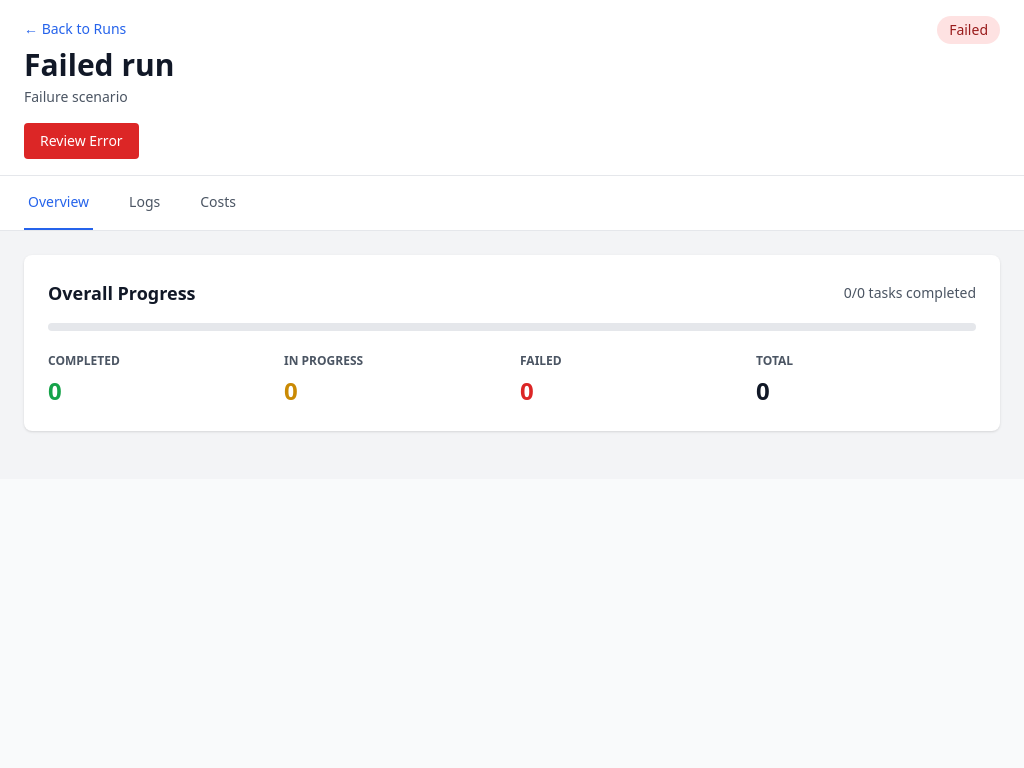
it: ExecutionConsole repair workflow › shows inline error when retry endpoint fails
Click the button "Review Error".
click(81, 141)  # box 24,123 -> 139,159
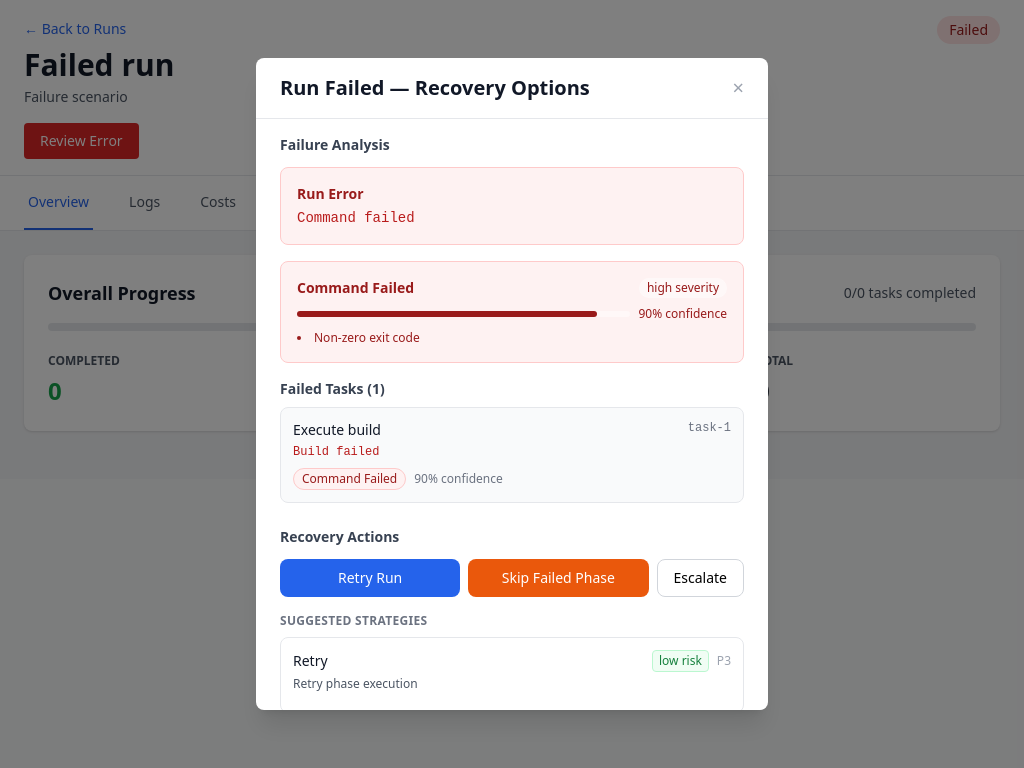
Click the button "Retry Run".
click(370, 578)  # box 280,559 -> 460,597
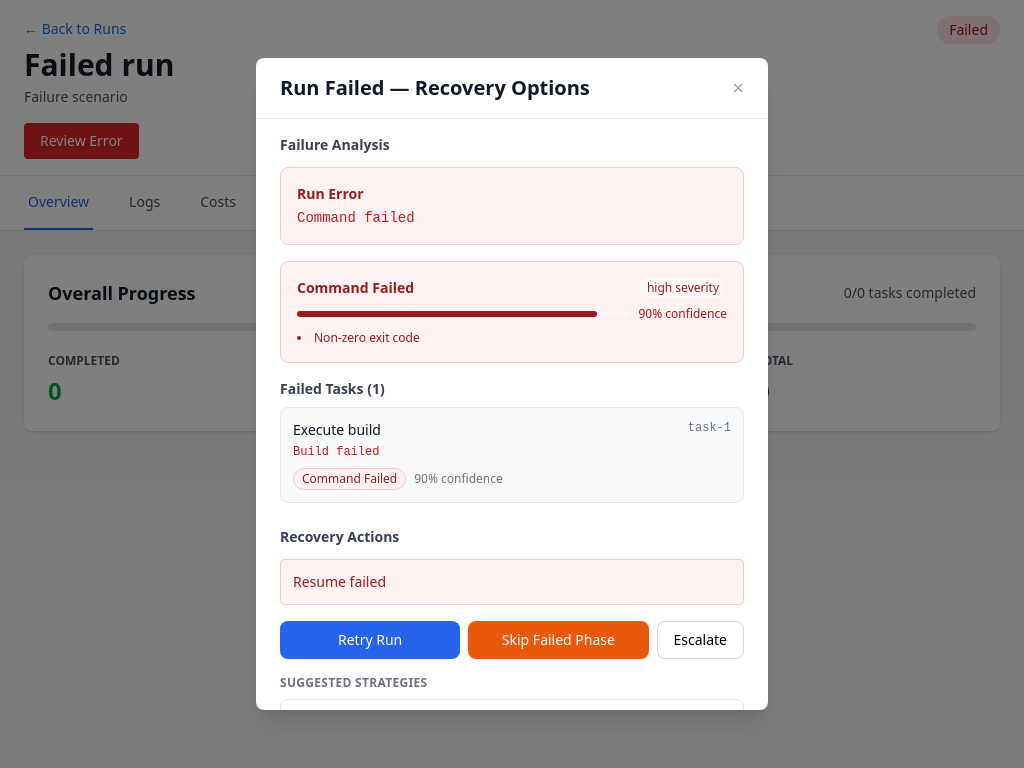
Now the text "Resume failed" is shown, box 280,559 -> 744,605
